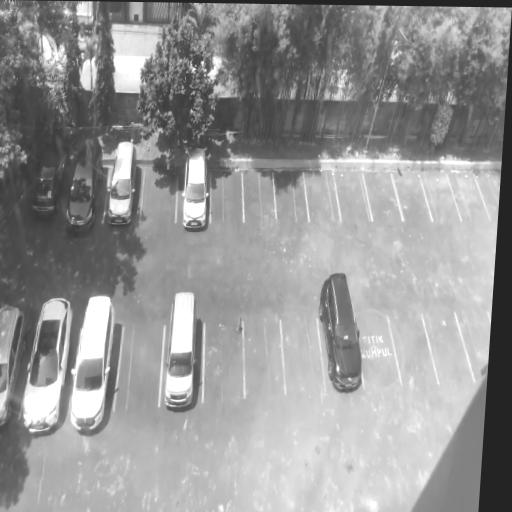Car: (17, 297, 75, 435), (65, 294, 120, 432), (315, 268, 364, 394), (26, 131, 76, 226), (62, 134, 109, 233), (164, 288, 198, 410), (0, 302, 29, 429), (105, 140, 141, 228), (181, 144, 209, 231)
Space Available: (115, 325, 166, 413), (422, 312, 473, 385), (281, 316, 326, 398), (387, 316, 438, 386), (203, 321, 245, 403), (245, 317, 286, 400), (357, 317, 403, 388), (457, 313, 491, 380), (142, 165, 179, 224), (446, 171, 491, 217), (362, 175, 404, 223), (420, 174, 461, 222), (243, 170, 278, 225), (333, 174, 372, 223), (392, 175, 431, 223), (211, 169, 244, 225), (305, 172, 340, 224), (274, 172, 309, 224), (475, 173, 500, 218)
